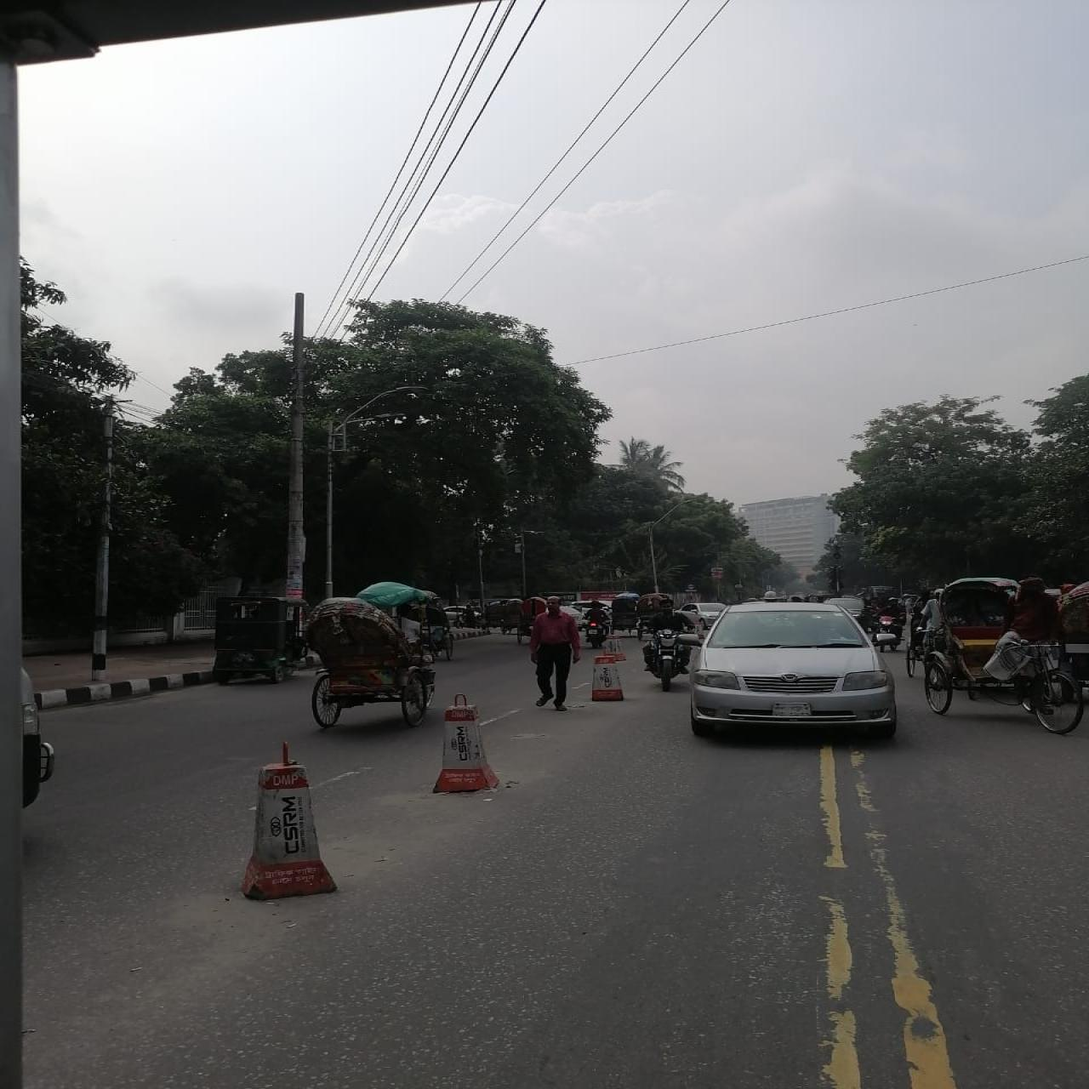person: (530, 596, 583, 713)
